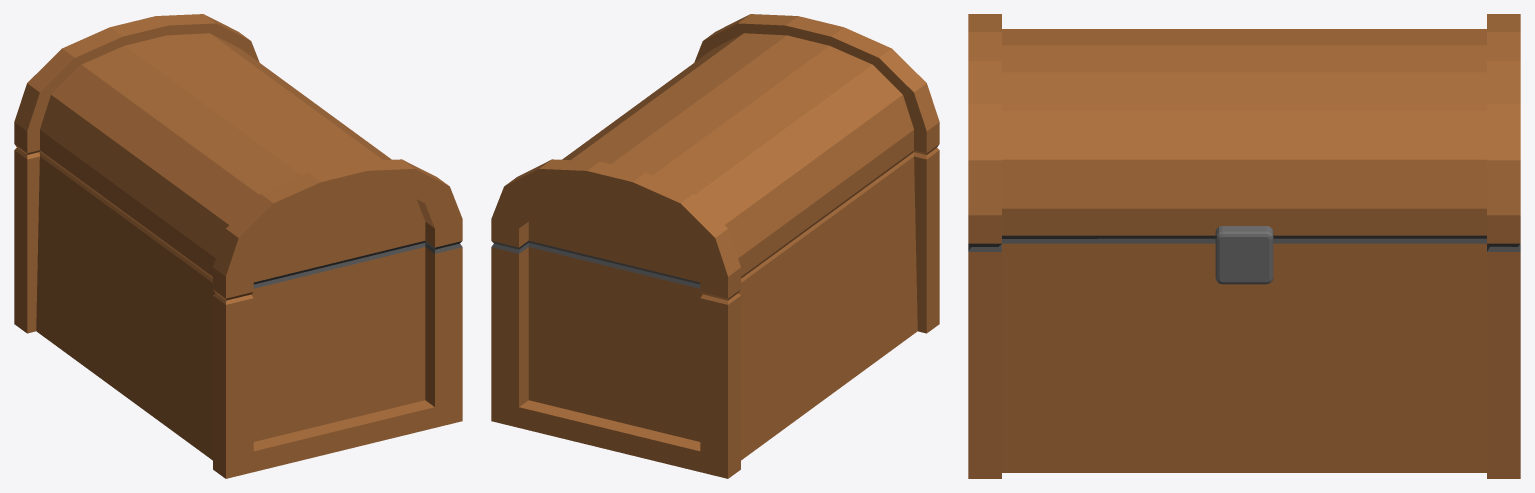
Rendered from chest.glb.
3 renders of one model, left to right at view 1: azimuth 30°, elevation 25°; view 2: azimuth 150°, elevation 25°; view 3: azimuth 270°, elevation 25°, orthographic. The views are drawn at different scales.
Visible parts, largest first — view 1: Chest; view 2: Chest; view 3: Chest.
Boxes of the visible parts, x1,y1,x2,y2 form: Chest: (14, 14, 462, 478); Chest: (491, 14, 939, 478); Chest: (968, 14, 1520, 478).
Bounding box in the file's own units: 1 × 1.1 × 1.55.
